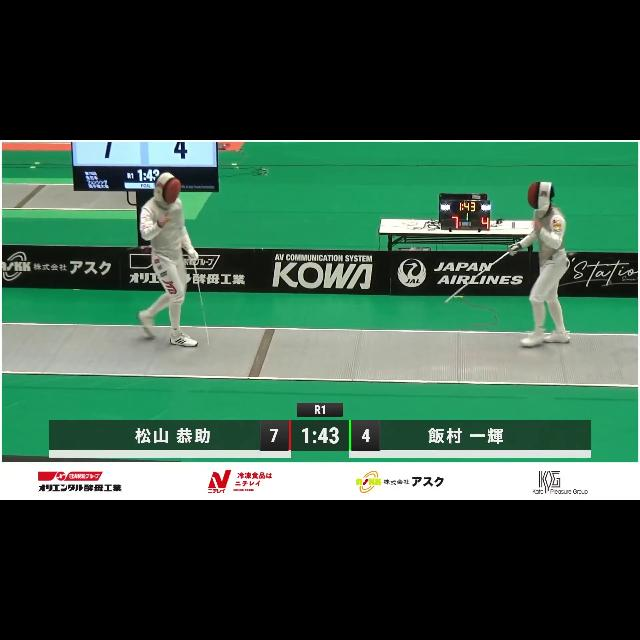blade: (444, 242, 520, 310), (188, 251, 218, 349)
